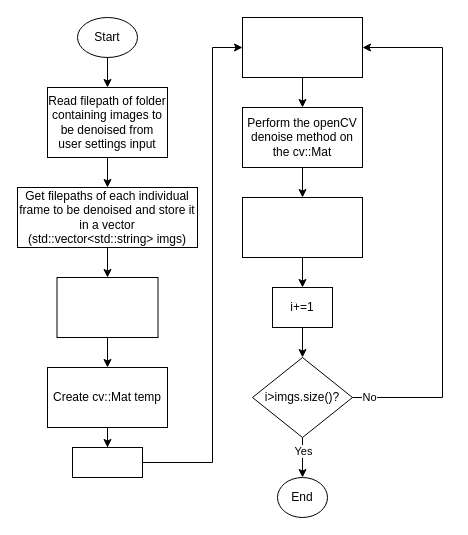
This 468x535 diagram has some shape labels left out. Each missing label, with the box of its shape:
i=0: (72, 446, 142, 478)
Read denoise amount from user settings input: (56, 276, 158, 338)
read the file at imgs[i] into the temp mat: (242, 16, 362, 78)
Write the new denoised image onto disk, in the same location (overwrite): (242, 196, 362, 258)
